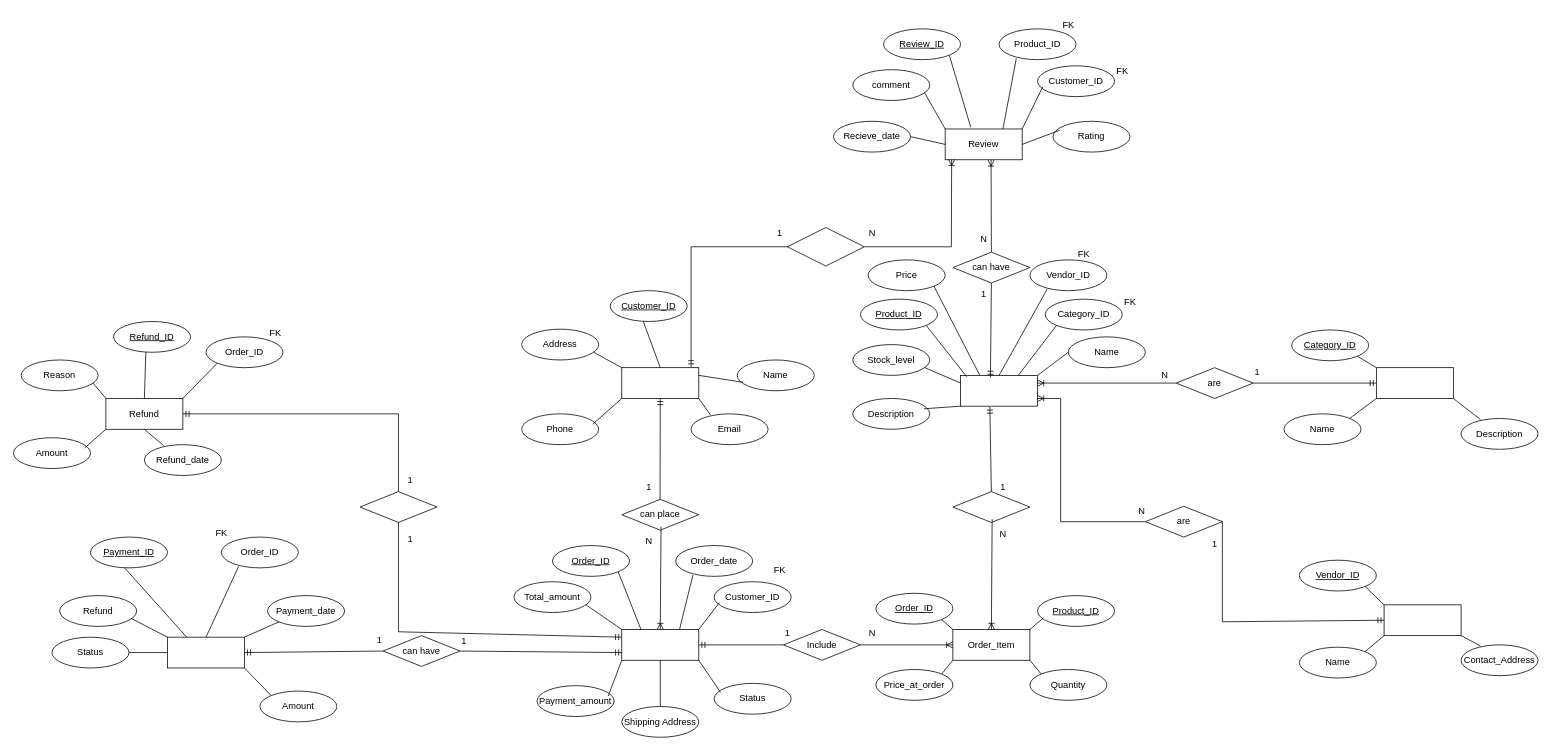
The diagram is 1552 pixels wide and 751 high, and some of its shapes have lost their labels. The centre of each missing label's shape, as x and y in pixels:
"can appear" belongs at point (991, 506).
"can write" belongs at point (825, 246).
"Category" belongs at point (1414, 382).
"Customer" belongs at point (660, 382).
"may have" belongs at point (398, 506).
"Order" belongs at point (660, 644).
"Payment" belongs at point (205, 652).
"Product" belongs at point (999, 390).
"Vendor" belongs at point (1422, 620).
